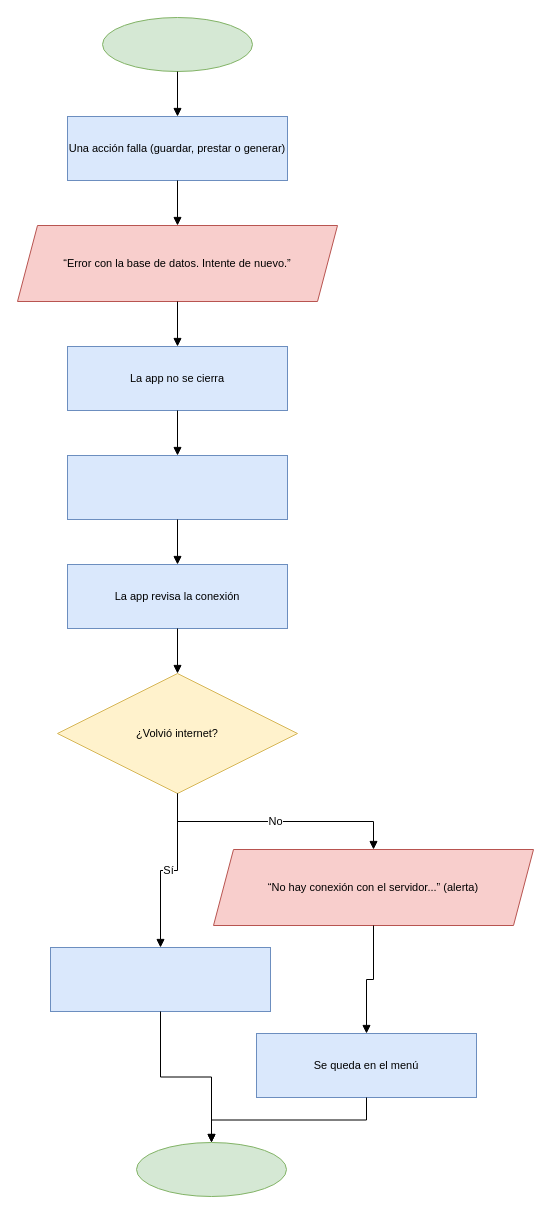
The diagram is 551 pixels wide and 1214 high, and some of its shapes have lost their labels. The centre of each missing label's shape, as x and y in pixels:
"El usuario presiona Menú y vuelve a abrir la pantalla" goes at pixel 177 487.
"Fin" goes at pixel 211 1169.
"Inicio" goes at pixel 177 44.
"Se reconecta sola y la pantalla abre" goes at pixel 160 979.
